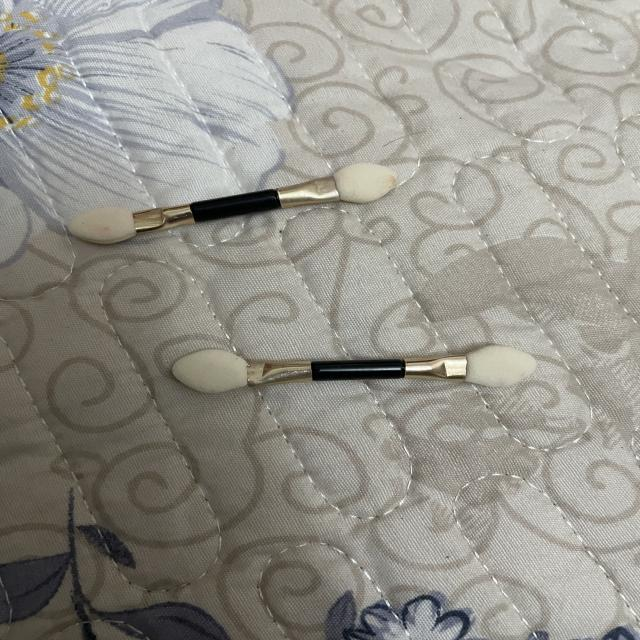beauty blender: (56, 152, 449, 258), (161, 323, 552, 420)
